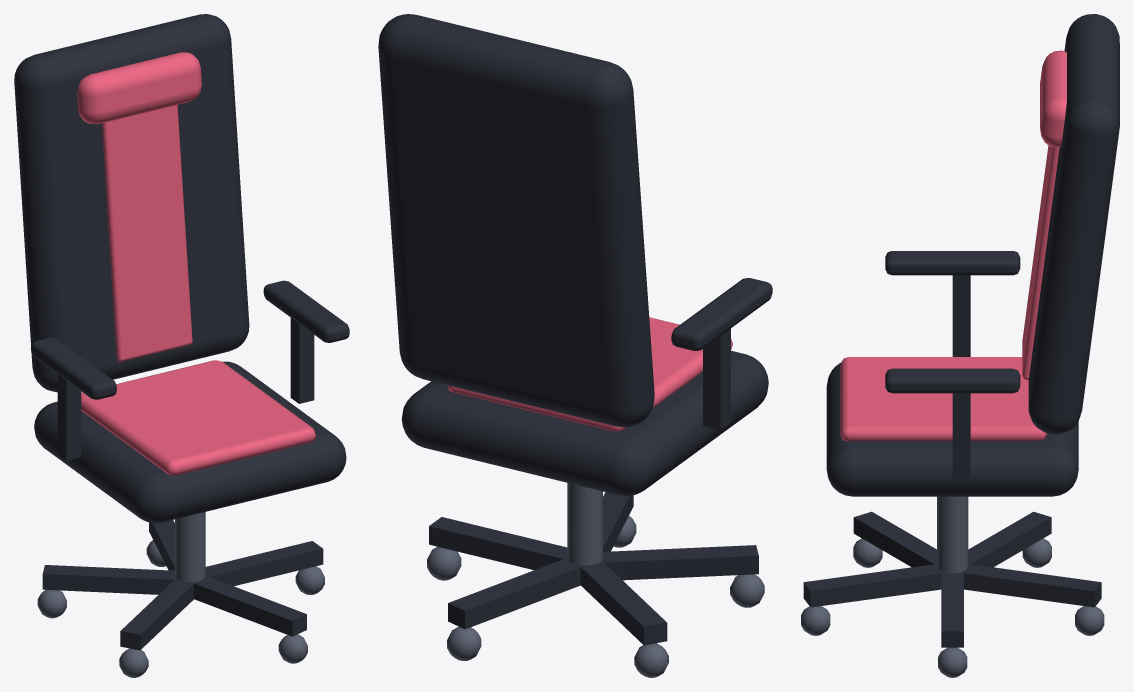
Rendered from chair.glb.
3 renders of one model, left to right at view 1: azimuth 30°, elevation 25°; view 2: azimuth 150°, elevation 25°; view 3: azimuth 270°, elevation 25°, orthographic. The views are drawn at different scales.
Size of the model in its own units: 0.6991 by 1.37 by 0.7083.
